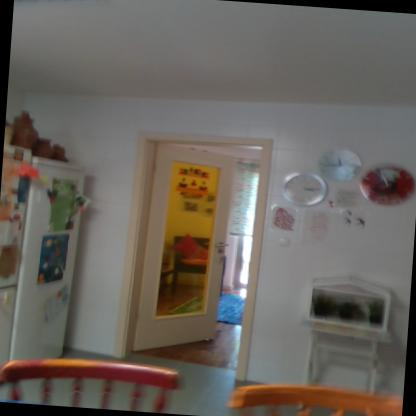semi: (112, 122, 288, 382)
